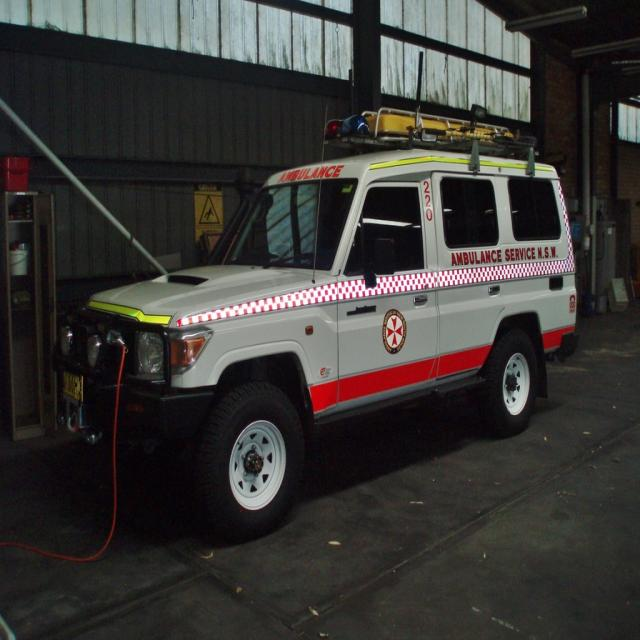Ambulance: (47, 102, 579, 531)
